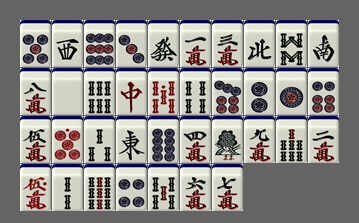0m: (20, 164, 51, 211)
0p: (52, 116, 83, 163)
0s: (148, 68, 179, 115)
1m: (180, 20, 211, 67)
1p: (276, 68, 307, 115)
1s: (212, 116, 243, 163)
1z: (116, 116, 147, 163)
2m: (308, 116, 339, 163)
2p: (244, 68, 275, 115)
2s: (52, 164, 83, 211)
2z: (308, 20, 339, 67)
3m: (212, 20, 243, 67)
3p: (116, 20, 147, 67)
3s: (84, 116, 115, 163)
3z: (52, 20, 83, 67)
4m: (180, 116, 211, 163)
4p: (116, 164, 147, 211)
4s: (180, 68, 211, 115)
4z: (244, 20, 275, 67)
5m: (20, 116, 51, 163)
5p: (20, 20, 51, 67)
5s: (148, 164, 179, 211)
5z: (52, 68, 83, 115)
6m: (180, 164, 211, 211)
6p: (308, 68, 339, 115)
6s: (84, 68, 115, 115)
6z: (148, 20, 179, 67)
7m: (212, 164, 243, 211)
7p: (212, 68, 243, 115)
7s: (276, 116, 307, 163)
7z: (116, 68, 147, 115)
8m: (20, 68, 51, 115)
8p: (148, 116, 179, 163)
8s: (276, 20, 307, 67)
9m: (244, 116, 275, 163)
9p: (84, 20, 115, 67)
9s: (84, 164, 115, 211)
